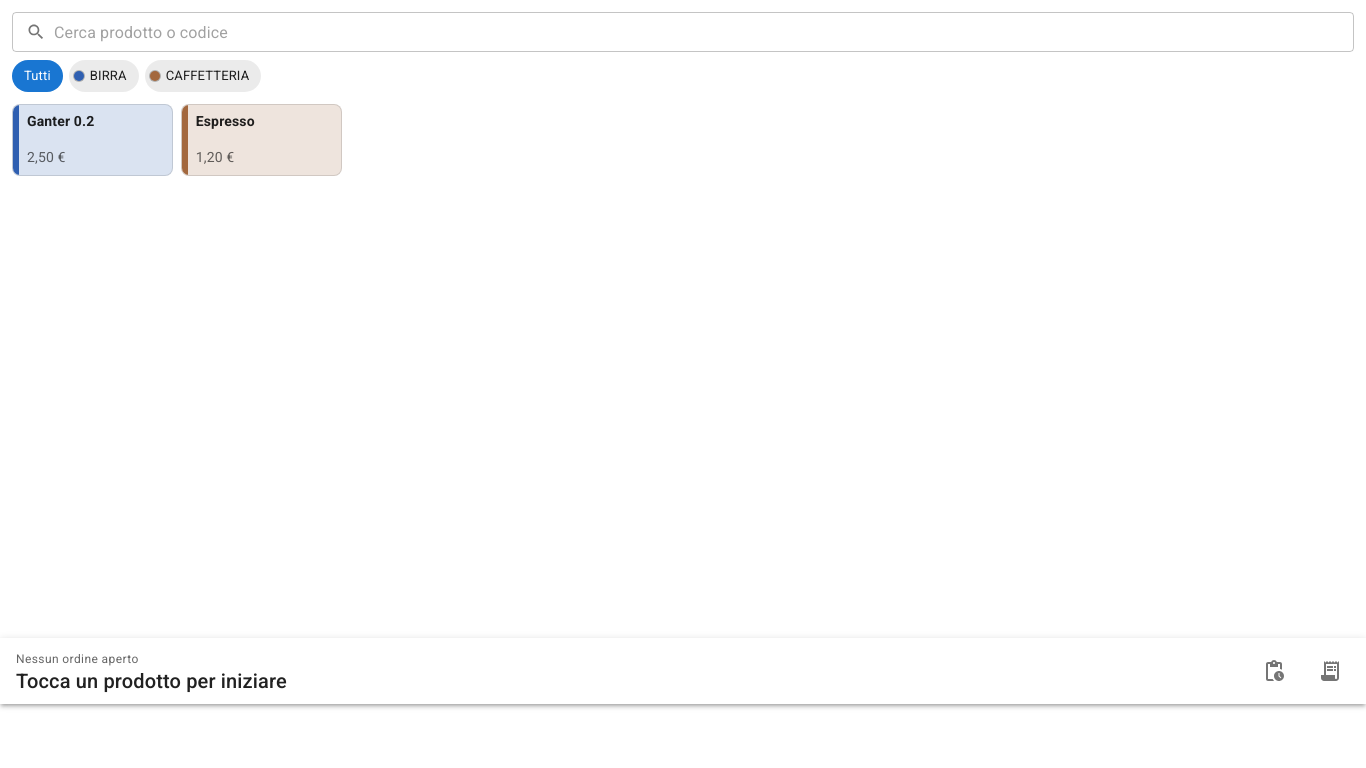
it: PuntoVendita › con un ordine aperto offre le due uscite: annulla e chiudi
The image size is (1366, 768).
Click the text "Ganter 0.2". click: (61,122)
box: left=27, top=113, right=94, bottom=130
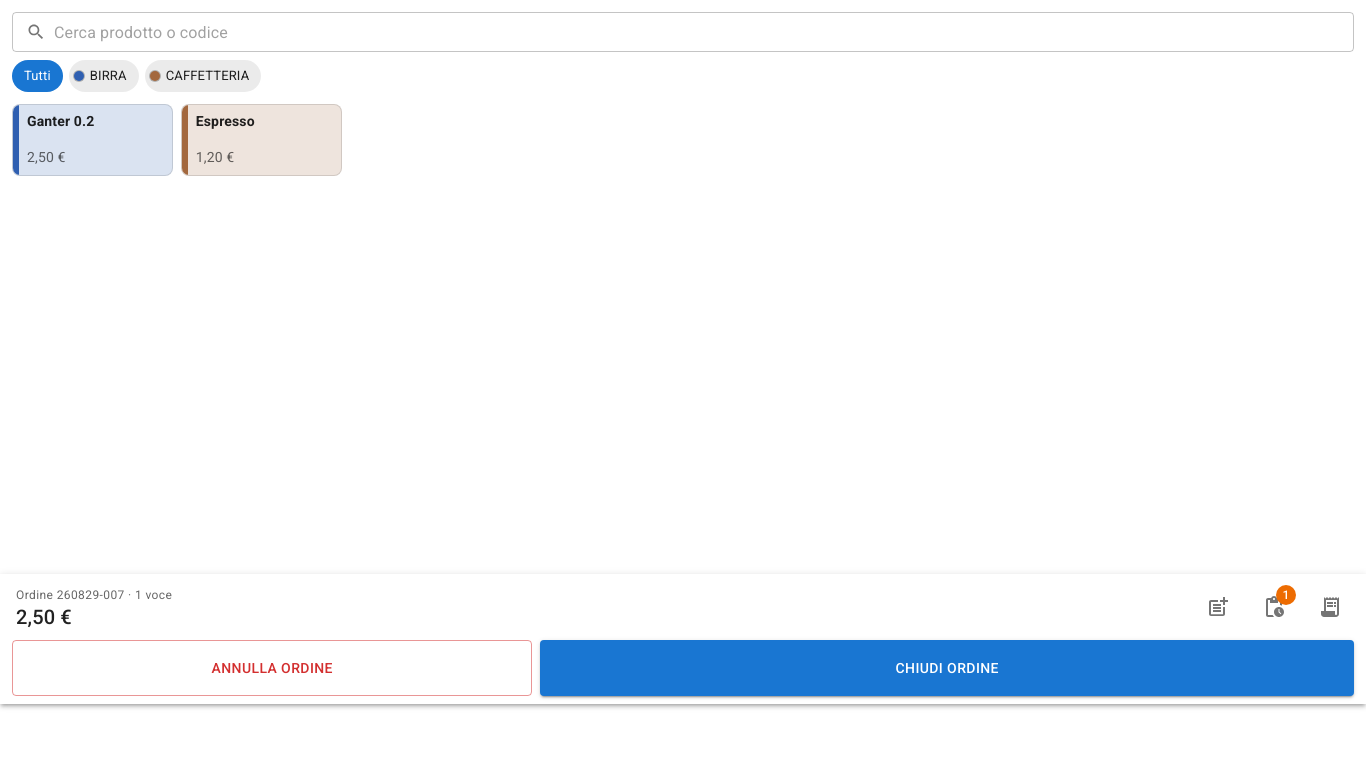
Now the button "Chiudi ordine" is shown, box left=540, top=640, right=1354, bottom=696
Now the button "Annulla ordine" is shown, box left=12, top=640, right=532, bottom=696
